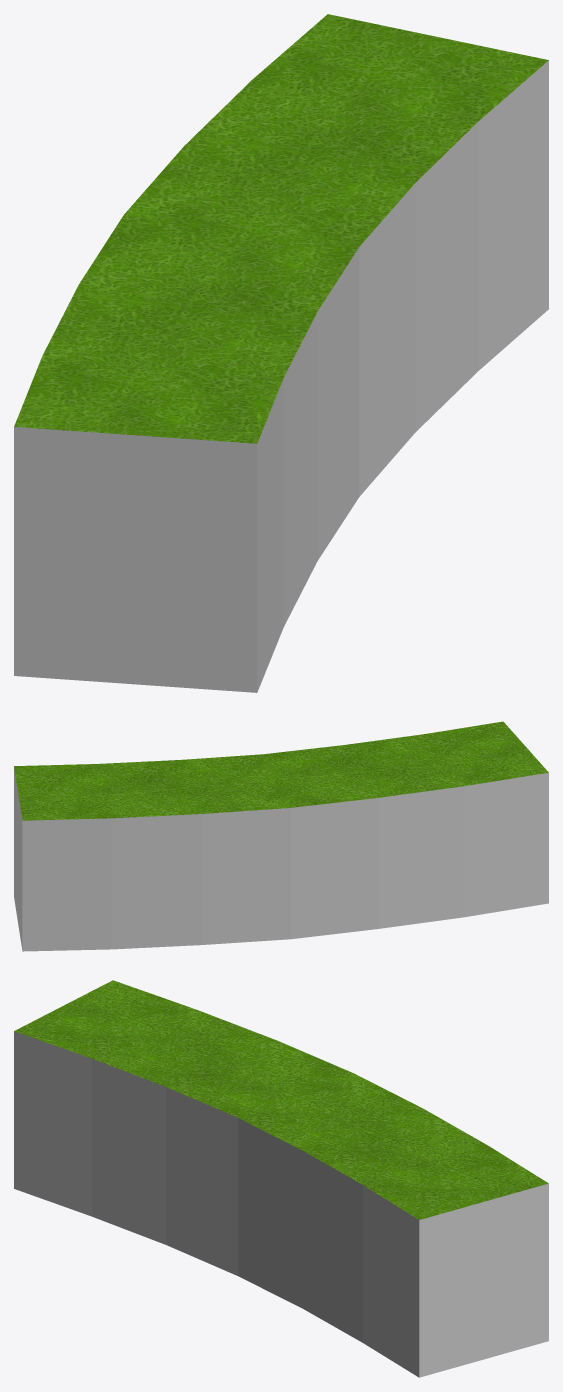
Rendered from SM_world_1_floating_island_low_1.fbx.
3 renders of one model, top to bottom at view 1: azimuth 30°, elevation 25°; view 2: azimuth 150°, elevation 25°; view 3: azimuth 270°, elevation 25°, orthographic. The views are drawn at different scales.
Parts seen in each view (by area): view 1: Main_mesh.002; view 2: Main_mesh.002; view 3: Main_mesh.002.
Part boxes in pixels (x1,y1,x2,y2): Main_mesh.002: (14, 14, 548, 692); Main_mesh.002: (14, 721, 548, 951); Main_mesh.002: (14, 980, 548, 1377).
Bounding box in the file's own units: 39.57 × 37.29 × 12.22.
